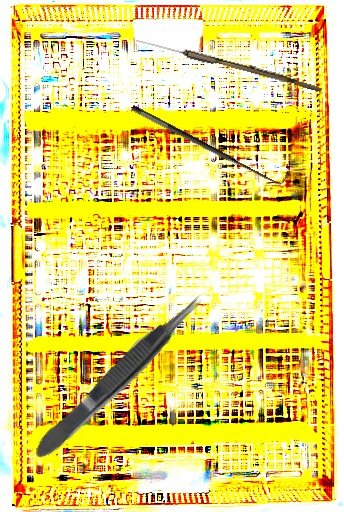Hook Surgical: (130, 93, 290, 192)
Surgical Spoon: (134, 36, 324, 93)
Tissue Forceps: (26, 287, 213, 465)
